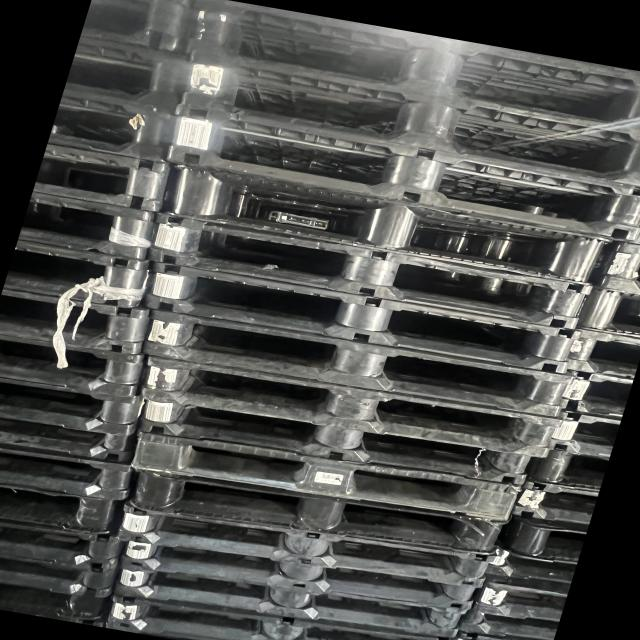igps: (160, 99, 638, 247), (174, 43, 640, 190), (178, 0, 640, 135), (159, 159, 617, 290), (141, 209, 599, 335), (138, 257, 586, 380), (135, 305, 580, 421), (137, 353, 566, 462), (125, 422, 528, 525), (133, 395, 535, 488), (126, 467, 515, 561), (112, 500, 500, 592), (108, 550, 470, 640), (118, 535, 479, 618), (102, 592, 458, 640), (51, 33, 203, 121), (0, 233, 156, 314), (42, 84, 184, 170), (12, 184, 161, 265), (0, 283, 156, 357), (28, 138, 174, 217), (0, 329, 154, 400), (0, 373, 149, 439), (0, 398, 143, 466), (0, 441, 142, 503), (0, 516, 132, 576), (0, 540, 126, 602), (0, 479, 120, 541), (75, 0, 199, 57), (0, 565, 116, 623), (501, 511, 595, 571), (506, 476, 607, 530), (558, 320, 640, 384), (515, 443, 613, 496), (450, 596, 568, 640), (540, 406, 626, 464), (559, 367, 638, 423), (568, 281, 640, 342), (581, 232, 640, 298)
